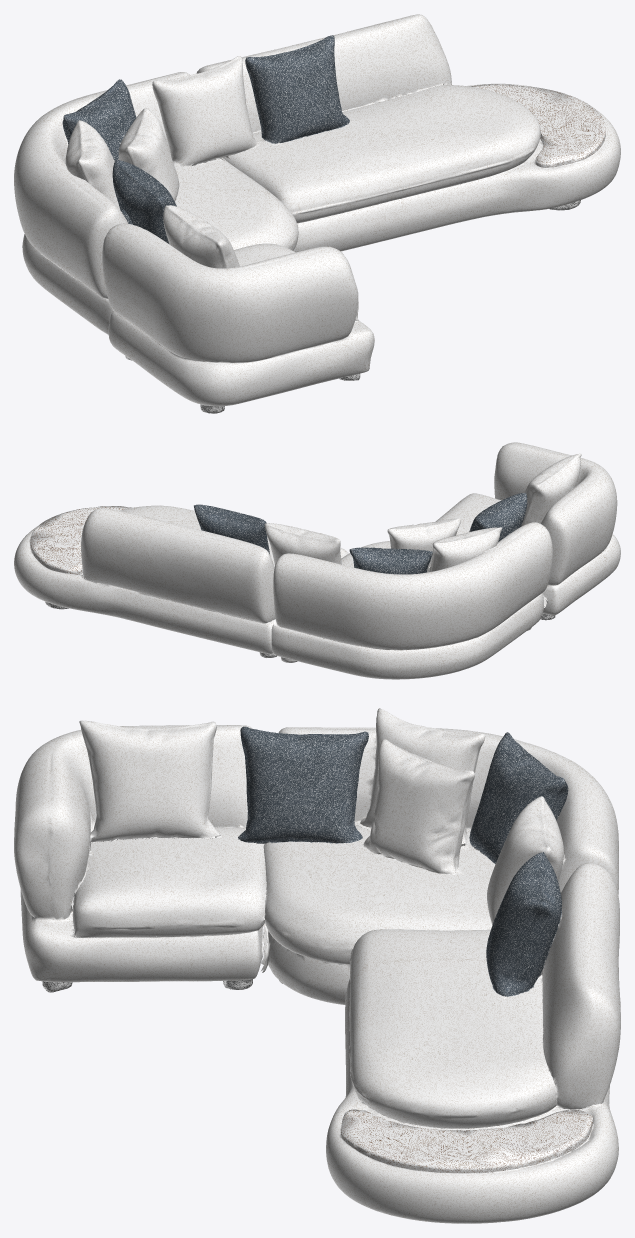
The model's file is corner-sofa.glb.
The picture shows the model from 3 angles, top to bottom: view 1: azimuth 30°, elevation 25°; view 2: azimuth 150°, elevation 25°; view 3: azimuth 270°, elevation 25°; orthographic projection. The views are drawn at different scales.
Parts seen in each view (by area): view 1: group_1, group_2.138, group_2.023, group_2.007, group_2.066, group_2.093, group_2.099, group_2.133, group_0, group_2.055, group_4, group_3 (+1 smaller); view 2: group_2.138, group_2.007, group_1, group_2.055, group_2.133, group_2.066, group_2.093, group_3, group_4, group_0, group_2.023, group_1.019; view 3: group_1, group_2.023, group_2.138, group_2.099, group_1.019, group_2.007, group_0, group_2.133, group_4, group_2.093, group_3, group_2.066 (+1 smaller).
Boxes of the visible parts, box(x1,y1,x2,y2) form: group_1: box(102, 205, 374, 406); group_2.138: box(14, 72, 620, 299); group_2.023: box(207, 84, 540, 223); group_2.007: box(196, 14, 451, 133); group_2.066: box(152, 56, 258, 166); group_2.093: box(245, 35, 349, 143); group_2.099: box(174, 157, 298, 250); group_2.133: box(469, 84, 605, 167); group_0: box(112, 160, 176, 243); group_2.055: box(22, 234, 113, 334); group_4: box(118, 108, 179, 201); group_3: box(62, 79, 136, 160); group_2.138: box(14, 522, 552, 653); group_2.007: box(81, 508, 275, 623); group_1: box(494, 442, 620, 615); group_2.055: box(271, 593, 543, 679); group_2.133: box(30, 506, 131, 574); group_2.066: box(264, 523, 341, 565); group_2.093: box(194, 504, 269, 554); group_3: box(349, 547, 432, 574); group_4: box(387, 518, 460, 572); group_0: box(469, 493, 527, 541); group_2.023: box(120, 505, 348, 566); group_1.019: box(435, 493, 500, 535); group_1: box(14, 720, 263, 982); group_2.023: box(349, 929, 556, 1128); group_2.138: box(278, 708, 618, 1223); group_2.099: box(263, 824, 495, 964); group_1.019: box(72, 826, 266, 937); group_2.007: box(541, 863, 620, 1109); group_0: box(238, 726, 368, 843); group_2.133: box(341, 1109, 592, 1173); group_4: box(364, 739, 474, 874); group_2.093: box(486, 852, 561, 996); group_3: box(469, 732, 568, 863); group_2.066: box(487, 796, 563, 924).
Bounding box in the file's own units: 4.44 × 1.13 × 3.18.
6 materials, 4 textured.
